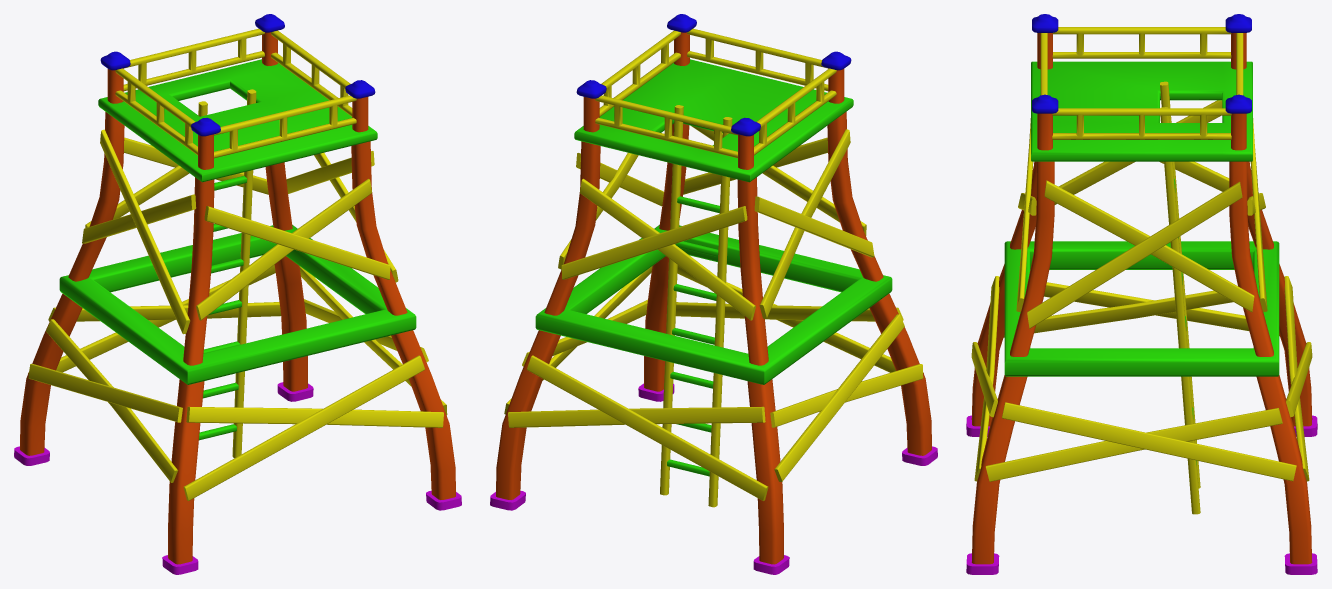
File: SM_RangedTower.fbx
3 renders of one model, left to right at view 1: azimuth 30°, elevation 25°; view 2: azimuth 150°, elevation 25°; view 3: azimuth 270°, elevation 25°, orthographic. The views are drawn at different scales.
Visible parts, largest first — view 1: CH_tower; view 2: CH_tower; view 3: CH_tower.
Part boxes in pixels (<box>): CH_tower: <box>14,14,461,574</box>; CH_tower: <box>490,14,937,574</box>; CH_tower: <box>966,14,1317,574</box>.
Size of the model in its own units: 437 by 597 by 429.
